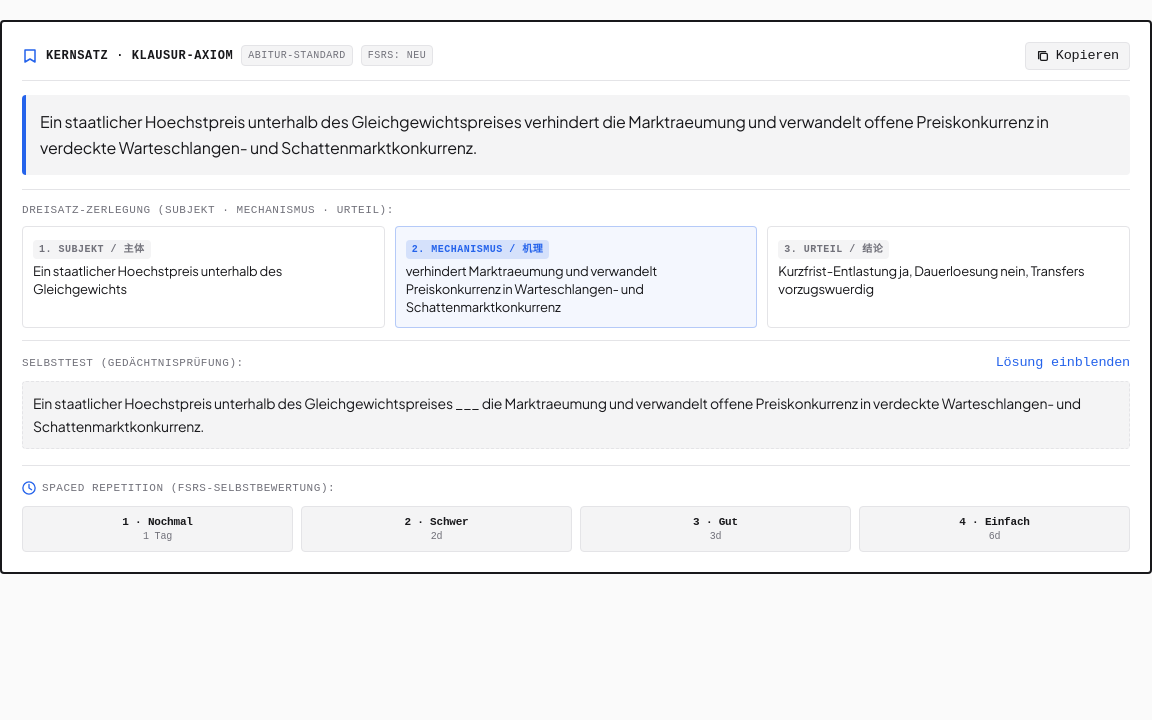
Test case: v5 Didactic Components & Parser Standalone Tests › KernsatzCard component tests › renders sentence, Dreisatz grid, and copies text to clipboard
The image size is (1152, 720).
expect the text "KERNSATZ · KLAUSUR-AXIOM" is shown: met, box [46,48,233,64]
expect the text "Dreisatz-Zerlegung (Subjekt · Mechanismus · Urteil):" is shown: met, box [22,204,394,216]
Step 1. Click the button with aria-label "Klausur-Satz kopieren" → coordinates (1077, 56), box [1025,42,1130,70]
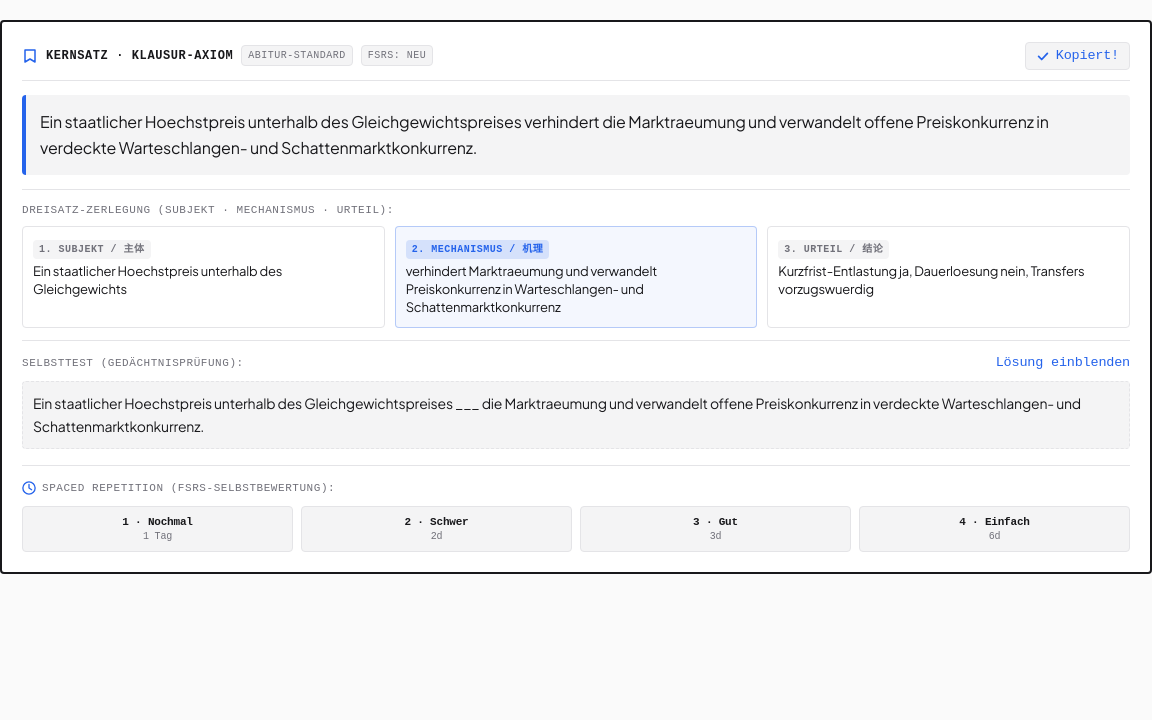
expect the text "Kopiert!" is shown: met, box [1056,47,1119,65]
